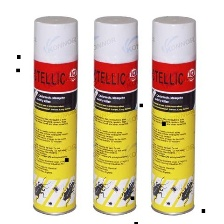aerosol_cans: (28, 12, 81, 216), (149, 14, 198, 216), (91, 14, 139, 218)
